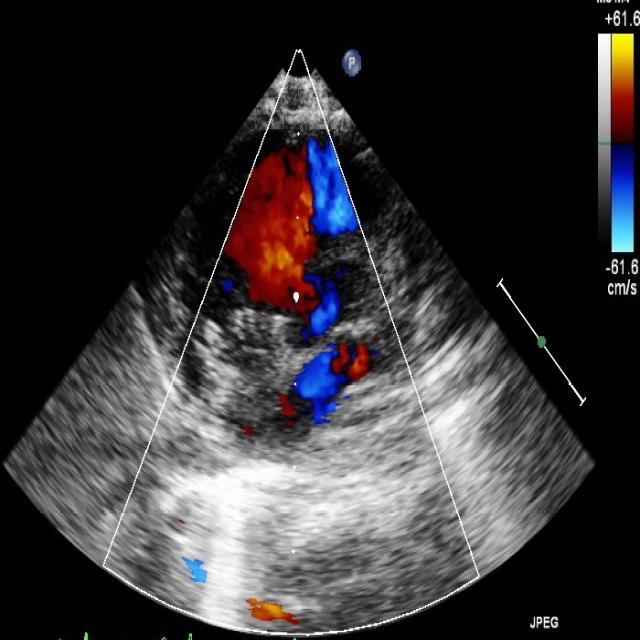VSDType2: (249, 141, 322, 423)
